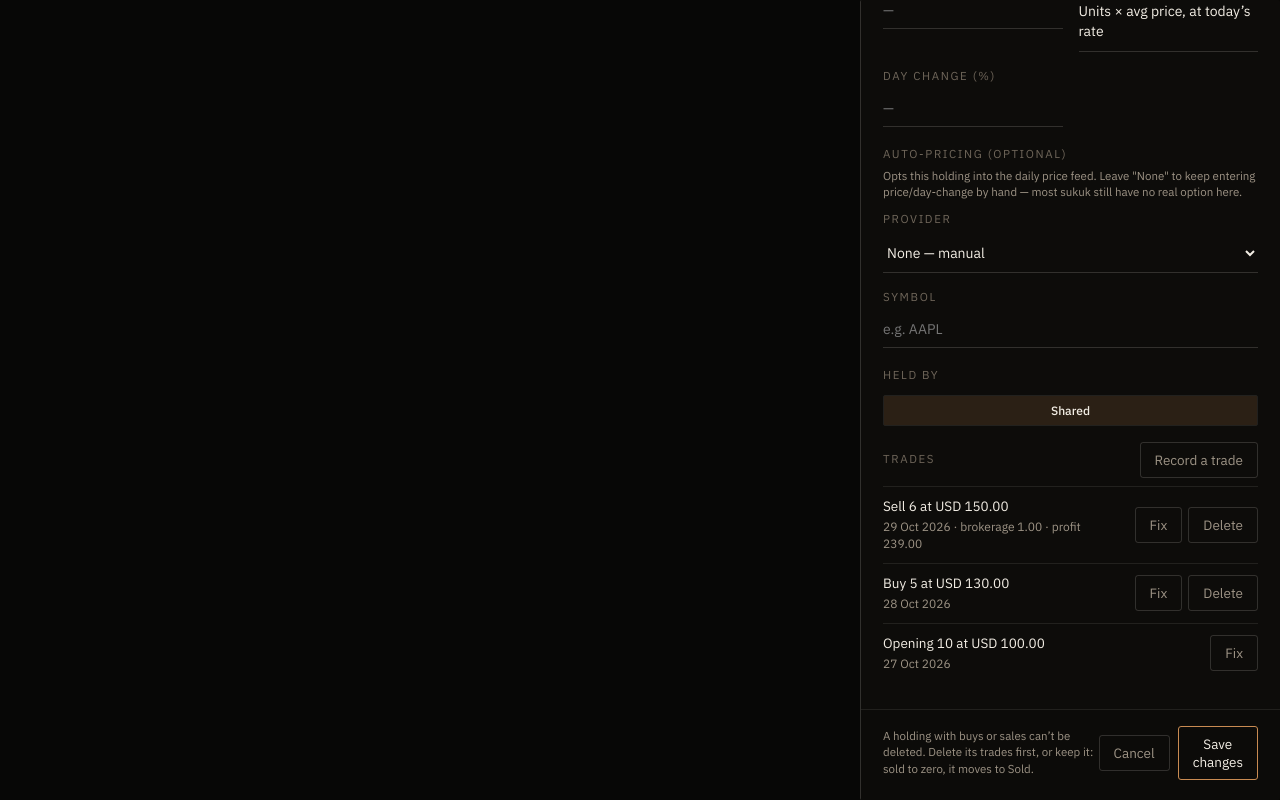
Test case: a holding's trades › says why a trade cannot be deleted
(page scrolled)
Click the button with aria-label "Delete Buy 5 at USD 130.00". click: {"x": 1223, "y": 593}
box: [1188,575,1258,611]
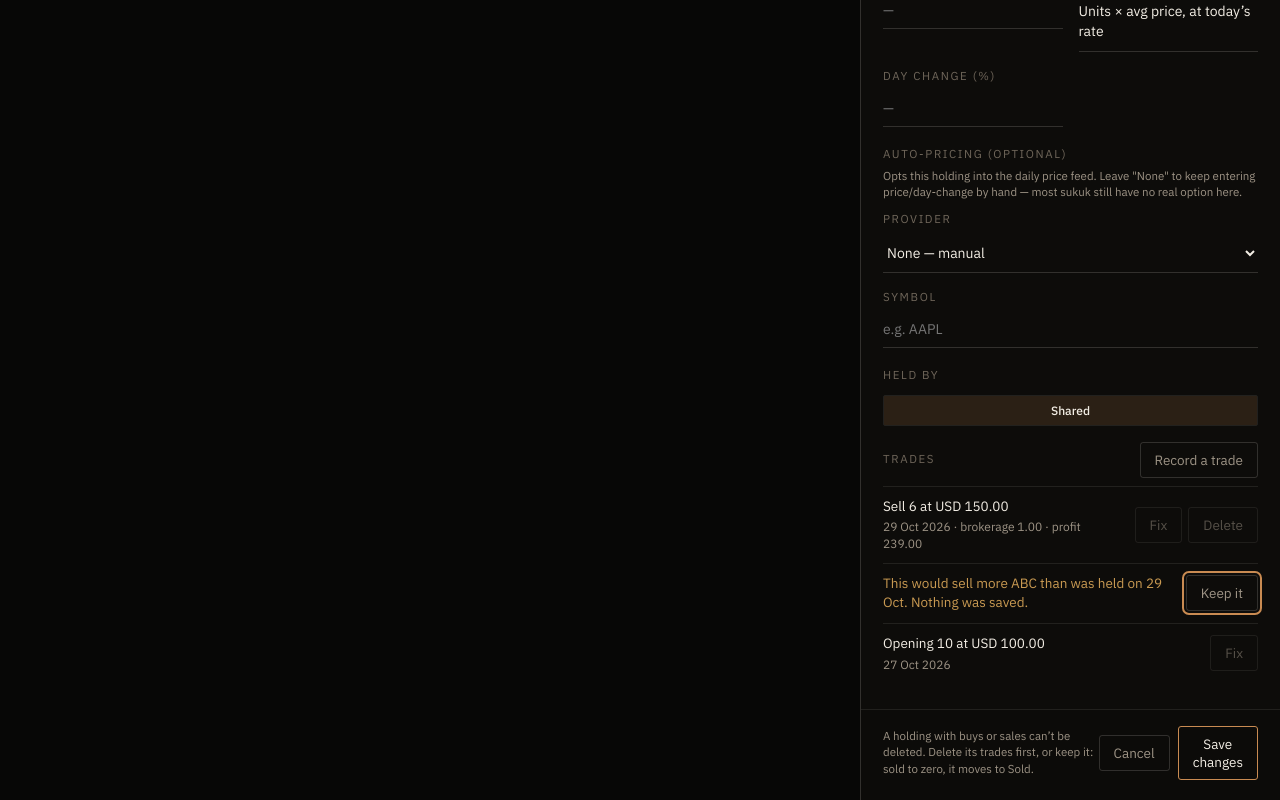
Expected: the text "This would sell more ABC than was held on 29 Oct. Nothing was saved." is shown, [883,574,1174,613]
